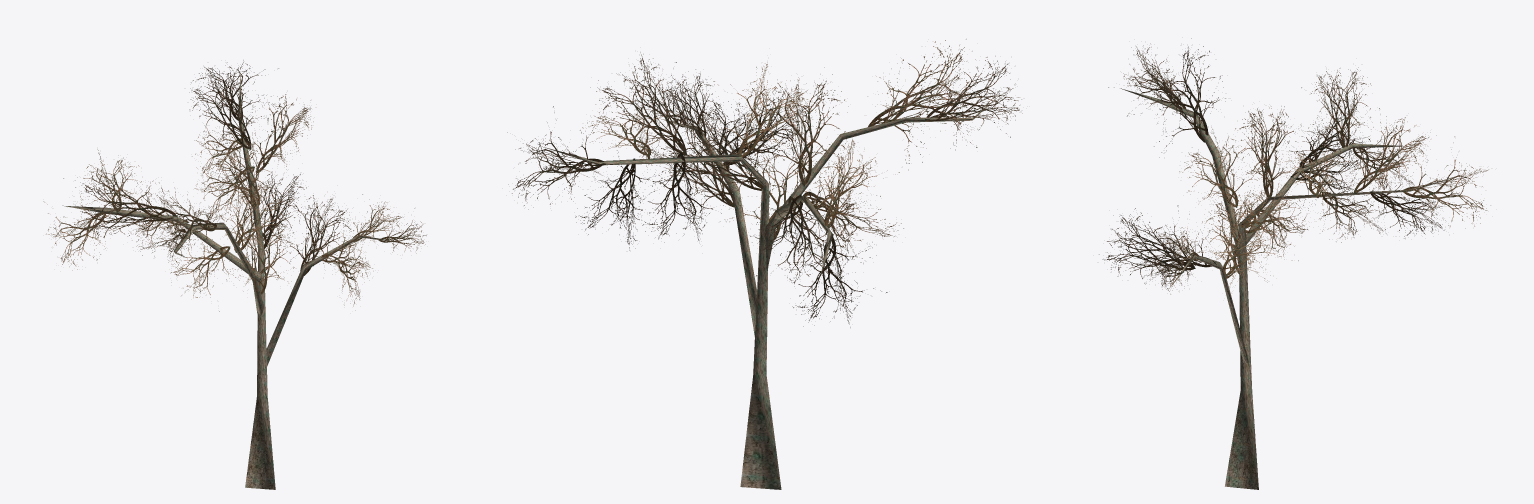
File: decd_dogwoodtreebranches_a2_l2.fbx
3 views of the same model, side by side, from view 1: azimuth 30°, elevation 25°; view 2: azimuth 150°, elevation 25°; view 3: azimuth 270°, elevation 25° (orthographic). The views are drawn at different scales.
Visible parts, largest first — view 1: mesh_node; view 2: mesh_node; view 3: mesh_node.
Part boxes in pixels (box(x1,y1,x2,y2)): mesh_node: box(43, 60, 426, 489); mesh_node: box(507, 39, 1022, 489); mesh_node: box(1099, 38, 1490, 489).
Size of the model in its own units: 16.48 by 18.6 by 17.75.
